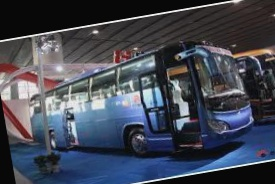bus: (21, 31, 262, 177)
